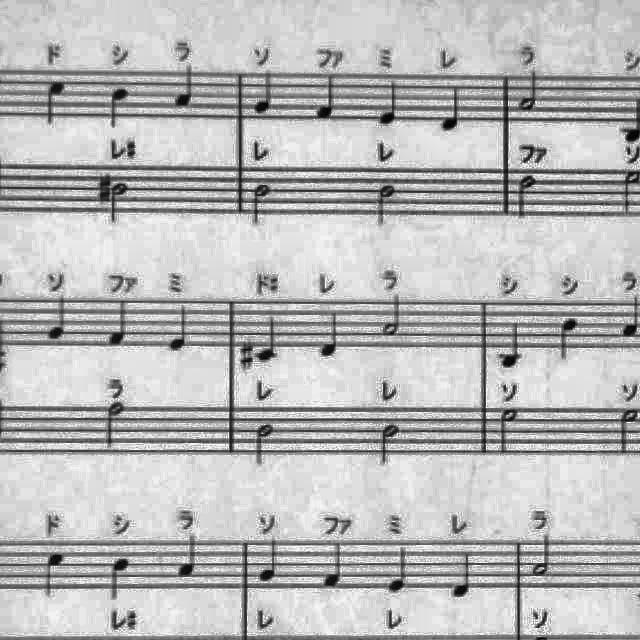Diez: (238, 337, 256, 373), (97, 170, 115, 206)
Half-note: (492, 404, 524, 460), (102, 398, 130, 452), (514, 172, 542, 224), (516, 67, 544, 116), (374, 182, 402, 230), (618, 402, 640, 463), (529, 531, 555, 581), (378, 420, 404, 470), (253, 419, 279, 469), (248, 180, 274, 228), (380, 291, 404, 341), (109, 179, 131, 225)
Quarter-note: (497, 318, 528, 374), (320, 536, 350, 592), (383, 540, 413, 596), (40, 74, 70, 130), (446, 546, 476, 602), (39, 547, 69, 601), (104, 294, 132, 350), (168, 300, 196, 356), (172, 530, 202, 582), (173, 60, 203, 111), (440, 81, 468, 135), (312, 72, 340, 124), (254, 314, 282, 366), (106, 554, 134, 606), (256, 534, 284, 586), (376, 78, 404, 130), (43, 291, 71, 343), (556, 314, 584, 366), (105, 82, 133, 132), (251, 69, 277, 119), (318, 308, 342, 362)
